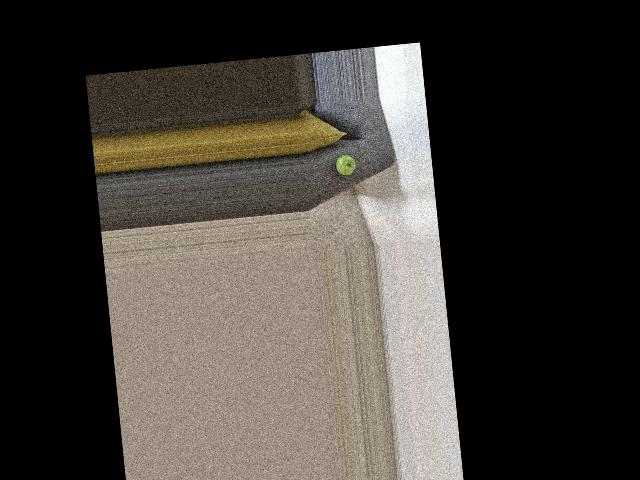apple: (332, 153, 357, 176)
